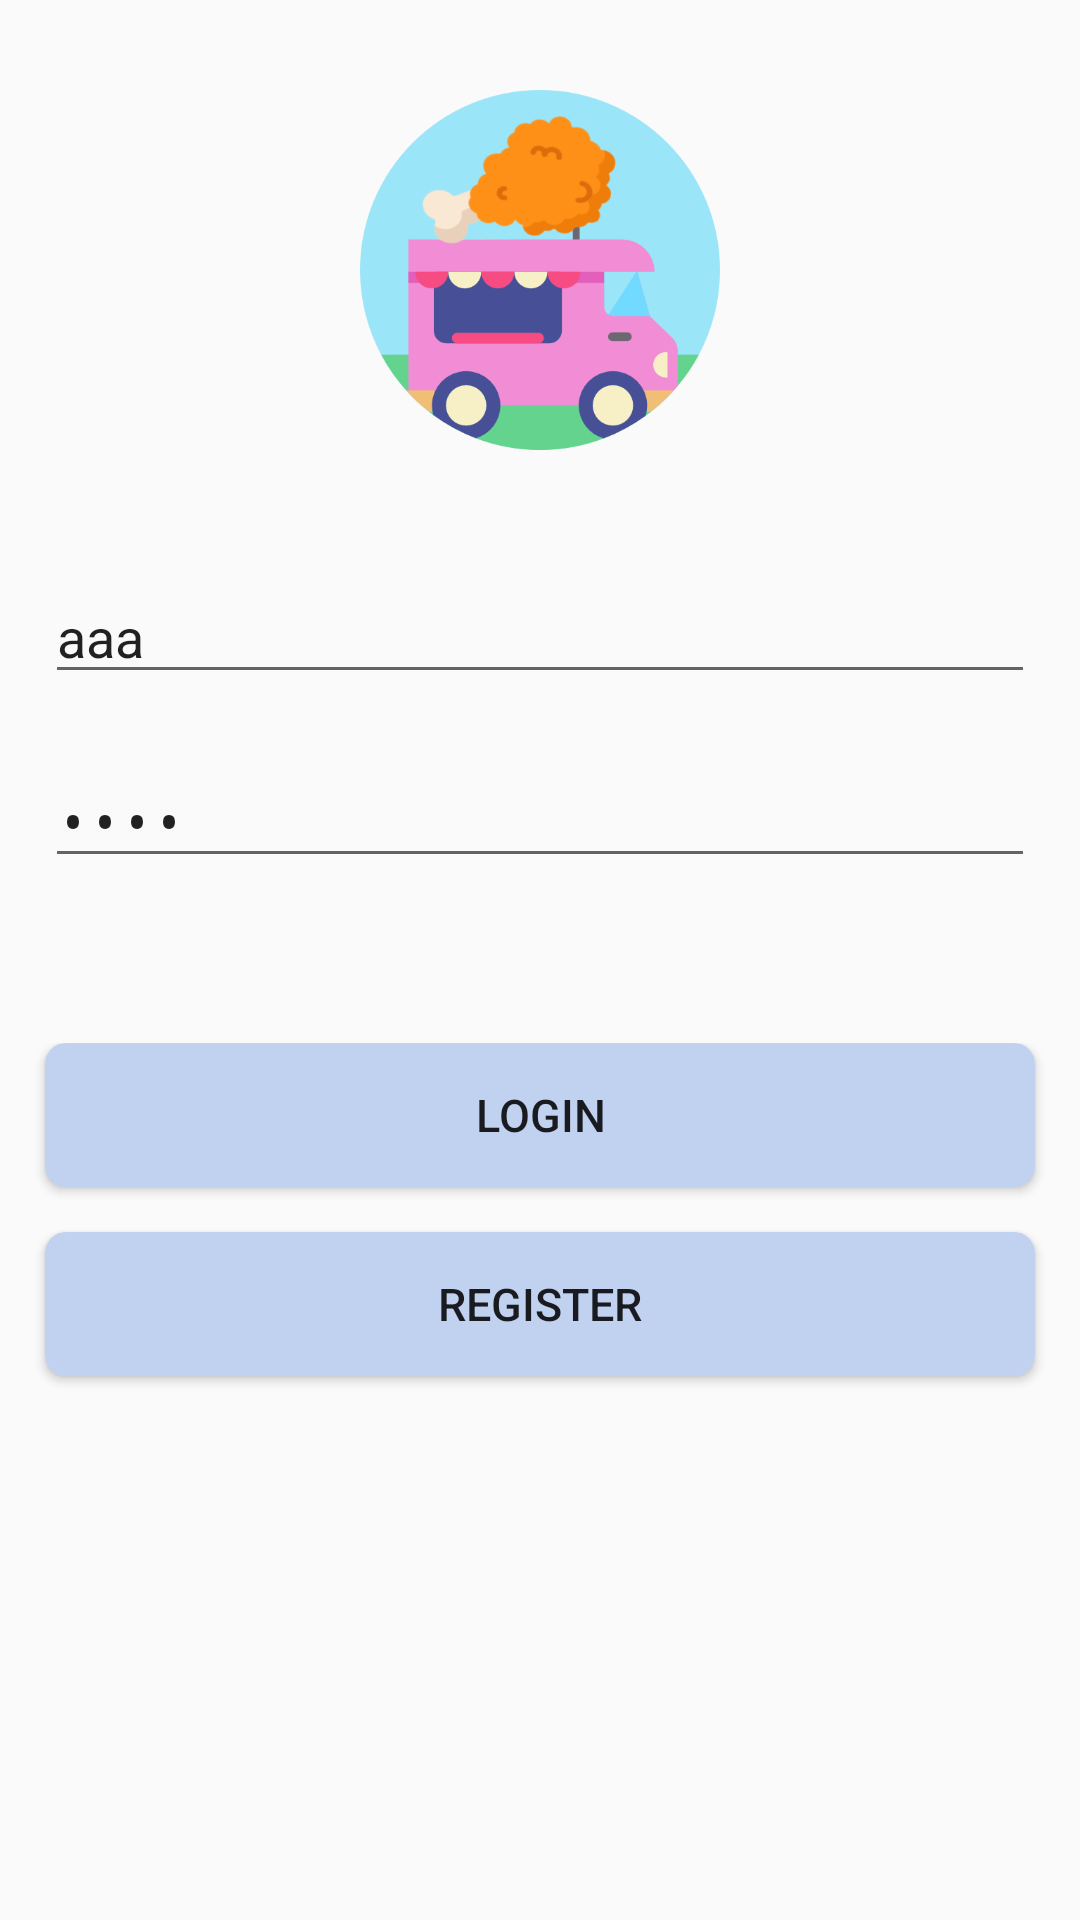

Icons on this 1080×1920 Android screen, each with the point to tap as (x=x, y=y):
foodtruckgram: (x=540, y=270)
